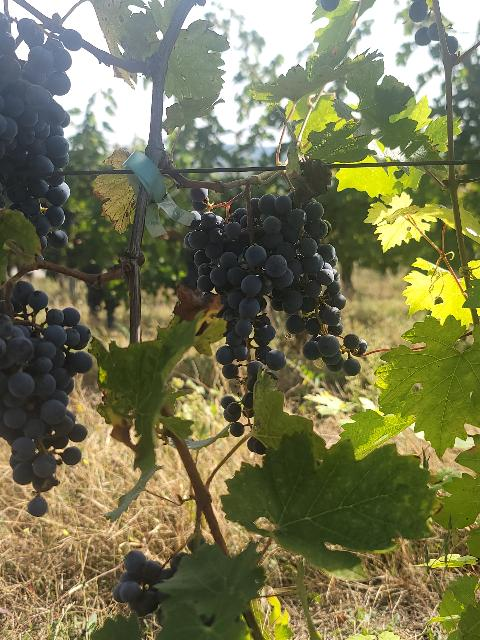grapes: (0, 281, 92, 516), (258, 194, 368, 375), (0, 12, 82, 249), (209, 244, 275, 436), (184, 188, 250, 294)
